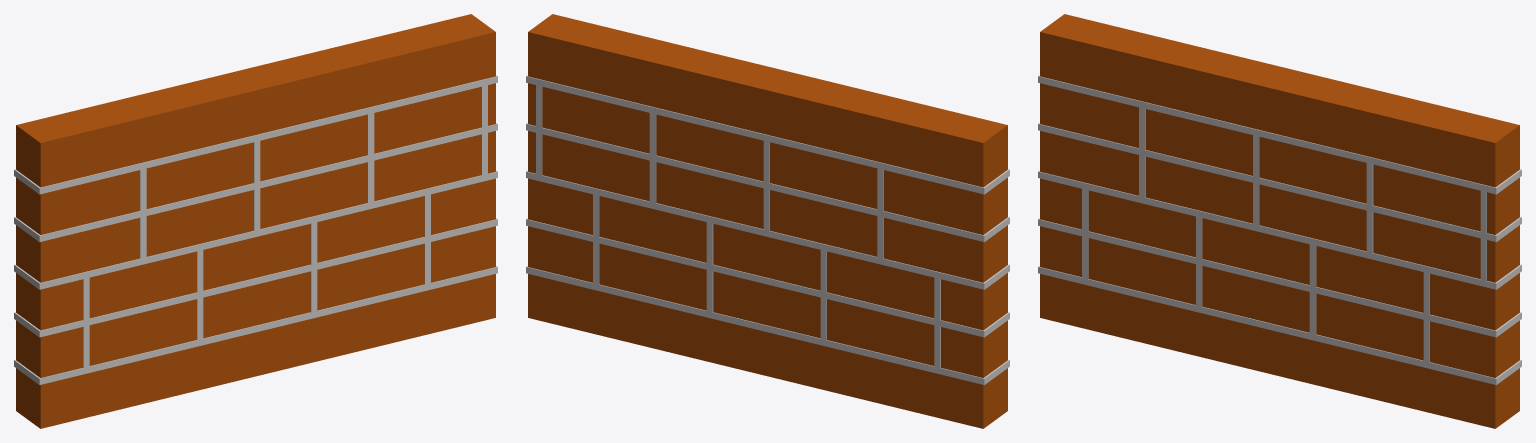
Rendered from brick_wall_1x3.glb.
3 renders of one model, left to right at view 1: azimuth 30°, elevation 25°; view 2: azimuth 150°, elevation 25°; view 3: azimuth 330°, elevation 25°, orthographic.
Size of the model in its own units: 2.4 by 1.43 by 0.2302.
